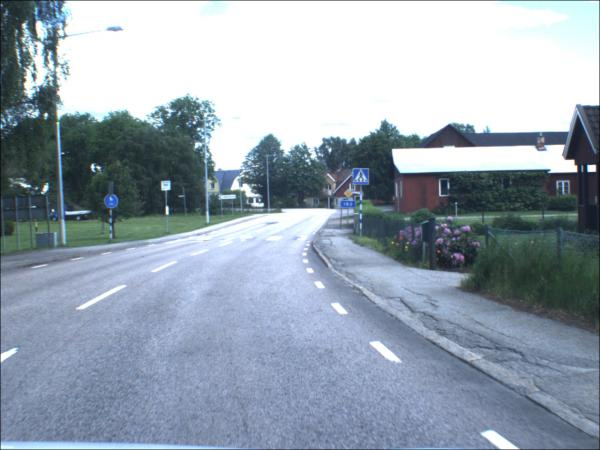PEDESTRIAN_CROSSING: (354, 170, 371, 188)
PRIORITY_ROAD: (344, 190, 355, 200)
